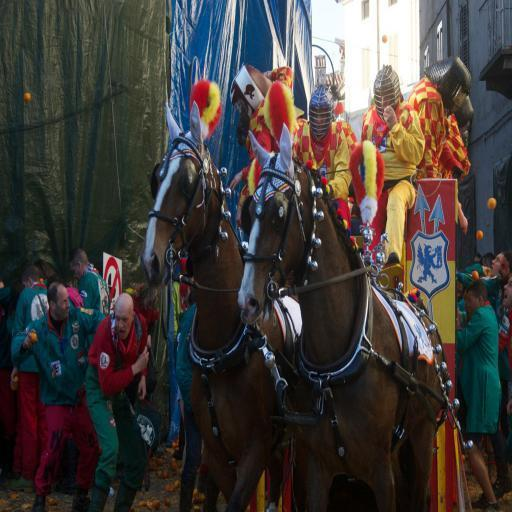horse: (234, 118, 452, 505), (136, 100, 293, 512)
